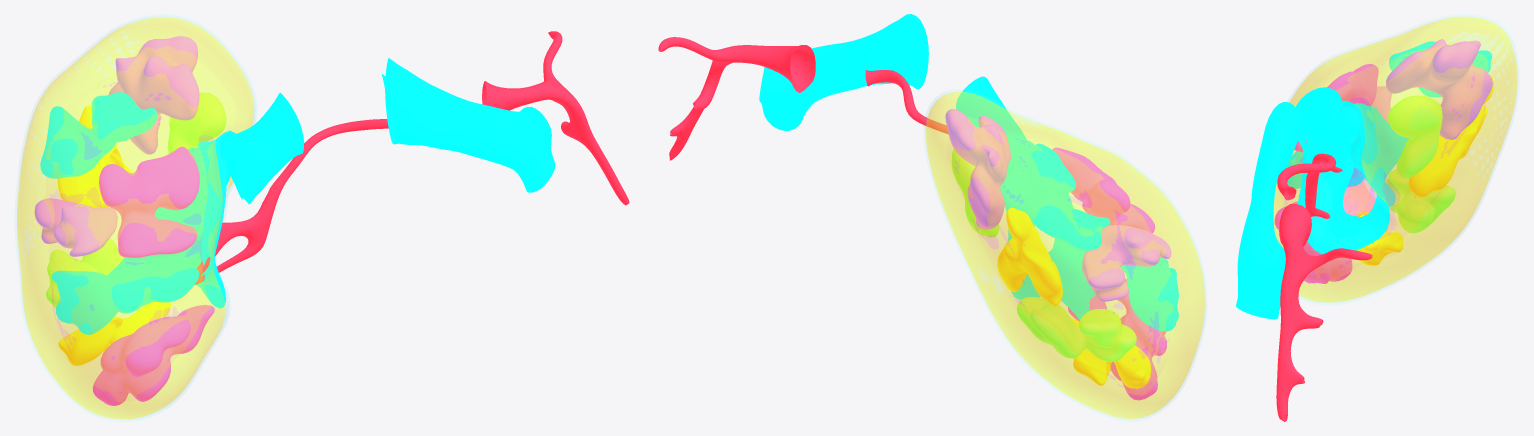
File: niere-female.glb
3 views of the same model, side by side, from view 1: azimuth 30°, elevation 25°; view 2: azimuth 150°, elevation 25°; view 3: azimuth 270°, elevation 25° (orthographic).
Visible parts, largest first — view 1: 0:0:VH_F_outer_cortex_of_kidney_R, 1:2:VH_F_left_renal_vein, 0:9:VH_F_renal_pyramid_R_e, 0:3:VH_F_hilum_of_kidney_R, 0:14:VH_F_renal_pyramid_R_j, 0:5:VH_F_renal_pyramid_R_a, 0:12:VH_F_renal_pyramid_R_h, 0:7:VH_F_renal_pyramid_R_c, 1:3:VH_F_right_renal_vein, 1:1:VH_F_left_renal_artery, 1:0:VH_F_right_renal_artery, 0:10:VH_F_renal_pyramid_R_f (+6 smaller); view 2: 0:0:VH_F_outer_cortex_of_kidney_R, 1:2:VH_F_left_renal_vein, 0:11:VH_F_renal_pyramid_R_g, 0:5:VH_F_renal_pyramid_R_a, 1:1:VH_F_left_renal_artery, 0:3:VH_F_hilum_of_kidney_R, 0:7:VH_F_renal_pyramid_R_c, 0:10:VH_F_renal_pyramid_R_f, 0:8:VH_F_renal_pyramid_R_d, 0:9:VH_F_renal_pyramid_R_e, 0:12:VH_F_renal_pyramid_R_h, 0:14:VH_F_renal_pyramid_R_j (+6 smaller); view 3: 0:0:VH_F_outer_cortex_of_kidney_R, 0:3:VH_F_hilum_of_kidney_R, 1:2:VH_F_left_renal_vein, 0:5:VH_F_renal_pyramid_R_a, 1:1:VH_F_left_renal_artery, 1:3:VH_F_right_renal_vein, 0:6:VH_F_renal_pyramid_R_b, 0:8:VH_F_renal_pyramid_R_d, 0:11:VH_F_renal_pyramid_R_g, 0:1:VH_F_renal_column_R, 1:0:VH_F_right_renal_artery, 0:9:VH_F_renal_pyramid_R_e (+6 smaller).
Boxes of the visible parts, x1,y1,x2,y2 form: 0:0:VH_F_outer_cortex_of_kidney_R: [17, 17, 253, 418]; 1:2:VH_F_left_renal_vein: [382, 58, 555, 192]; 0:9:VH_F_renal_pyramid_R_e: [99, 146, 199, 257]; 0:3:VH_F_hilum_of_kidney_R: [107, 130, 235, 308]; 0:14:VH_F_renal_pyramid_R_j: [93, 305, 214, 405]; 0:5:VH_F_renal_pyramid_R_a: [109, 36, 199, 154]; 0:12:VH_F_renal_pyramid_R_h: [51, 267, 199, 334]; 0:7:VH_F_renal_pyramid_R_c: [40, 92, 157, 178]; 1:3:VH_F_right_renal_vein: [223, 92, 304, 204]; 1:1:VH_F_left_renal_artery: [482, 31, 629, 205]; 1:0:VH_F_right_renal_artery: [194, 119, 388, 284]; 0:10:VH_F_renal_pyramid_R_f: [34, 198, 117, 256]; 0:0:VH_F_outer_cortex_of_kidney_R: [926, 92, 1204, 418]; 1:2:VH_F_left_renal_vein: [759, 14, 928, 130]; 0:11:VH_F_renal_pyramid_R_g: [1017, 297, 1136, 361]; 0:5:VH_F_renal_pyramid_R_a: [945, 109, 1010, 229]; 1:1:VH_F_left_renal_artery: [658, 37, 815, 160]; 0:3:VH_F_hilum_of_kidney_R: [1000, 139, 1095, 320]; 0:7:VH_F_renal_pyramid_R_c: [1028, 143, 1110, 250]; 0:10:VH_F_renal_pyramid_R_f: [1082, 225, 1171, 301]; 0:8:VH_F_renal_pyramid_R_d: [997, 207, 1062, 306]; 0:9:VH_F_renal_pyramid_R_e: [1052, 147, 1155, 233]; 0:12:VH_F_renal_pyramid_R_h: [1121, 257, 1178, 331]; 0:14:VH_F_renal_pyramid_R_j: [1068, 279, 1166, 400]; 0:0:VH_F_outer_cortex_of_kidney_R: [1274, 17, 1516, 302]; 0:3:VH_F_hilum_of_kidney_R: [1298, 100, 1408, 254]; 1:2:VH_F_left_renal_vein: [1236, 102, 1300, 319]; 0:5:VH_F_renal_pyramid_R_a: [1386, 39, 1492, 139]; 1:1:VH_F_left_renal_artery: [1276, 204, 1372, 421]; 1:3:VH_F_right_renal_vein: [1295, 87, 1361, 163]; 0:6:VH_F_renal_pyramid_R_b: [1388, 95, 1442, 178]; 0:8:VH_F_renal_pyramid_R_d: [1408, 75, 1493, 197]; 0:11:VH_F_renal_pyramid_R_g: [1385, 169, 1455, 233]; 0:1:VH_F_renal_column_R: [1286, 57, 1484, 267]; 1:0:VH_F_right_renal_artery: [1277, 153, 1342, 218]; 0:9:VH_F_renal_pyramid_R_e: [1294, 64, 1378, 152].
Bounding box in the file's own units: 0.1726 × 0.0979 × 0.0756.
